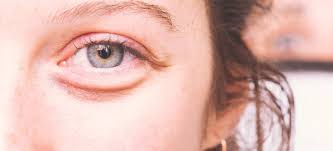pupil: (87, 43, 124, 68)
